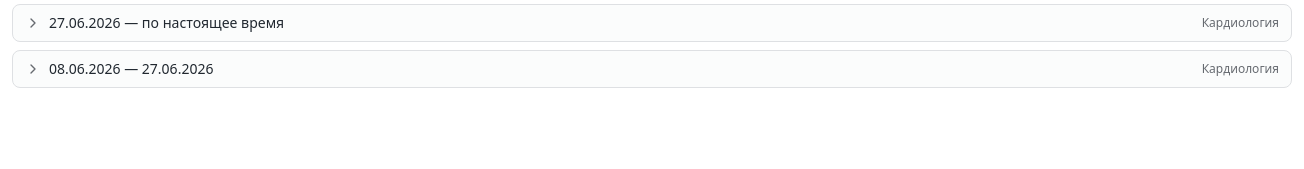
PatientAssessmentHistory (physician Шкалы tab) › lists every stay straight away and shows all scales of a stay when it is expanded
Check: the text "27.06.2026 — по настоящее время" is shown, box [49,13,284,33]
Click the text "08.06.2026 — 27.06.2026" at (131, 69), box [49,59,213,79]
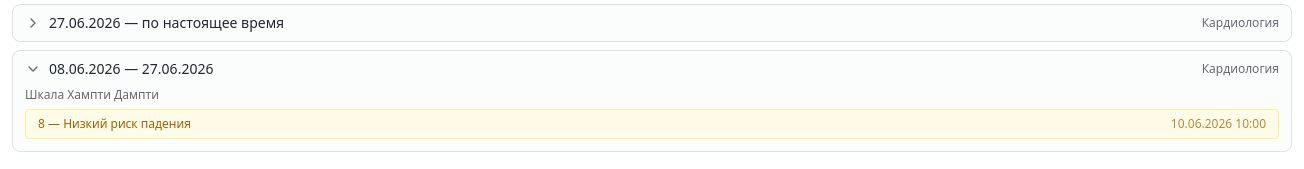
Check: the text "Шкала Хампти Дампти" is shown, box [25,86,159,103]
Check: the text "8 — Низкий риск падения" is shown, box [38,116,191,132]
